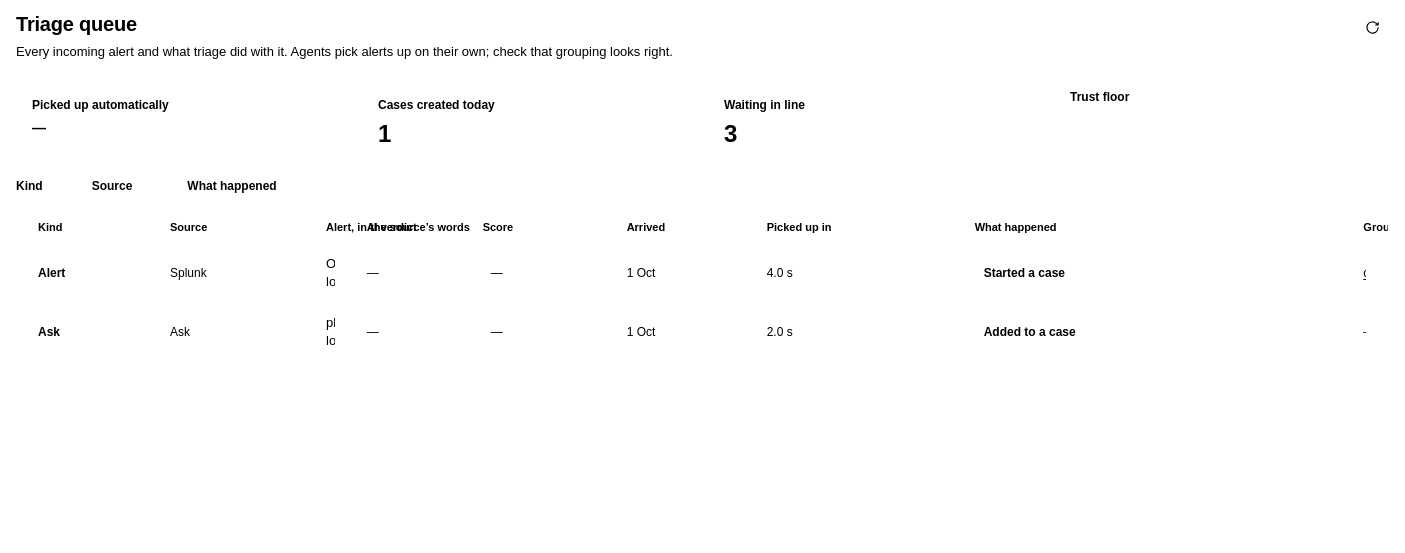
Test: TriageScreen › hides Open in source without a link, and shows an Ask’s document
The width and height of the screenshot is (1405, 553).
Expected: the element named "Intake strip" is shown, x1=32 y1=90 x2=1129 y2=146
Click the text "please look": [330, 332] box x1=326 y1=314 x2=335 y2=350
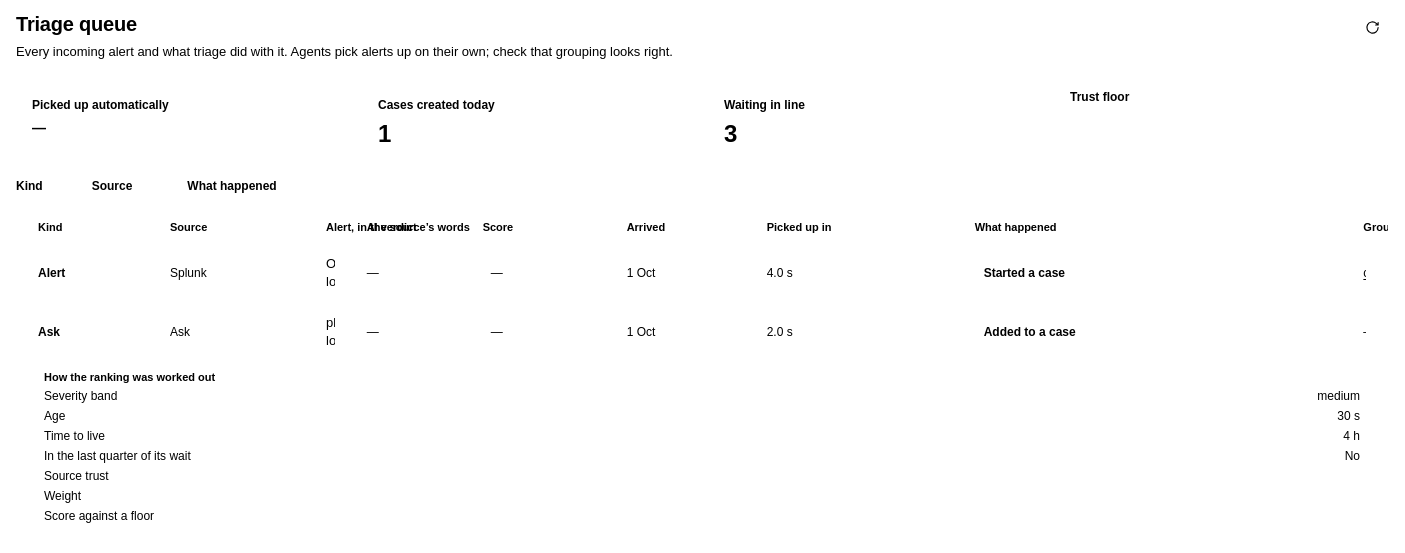
Expected: the element named "Expanded row" is shown, x1=32 y1=361 x2=1372 y2=536
